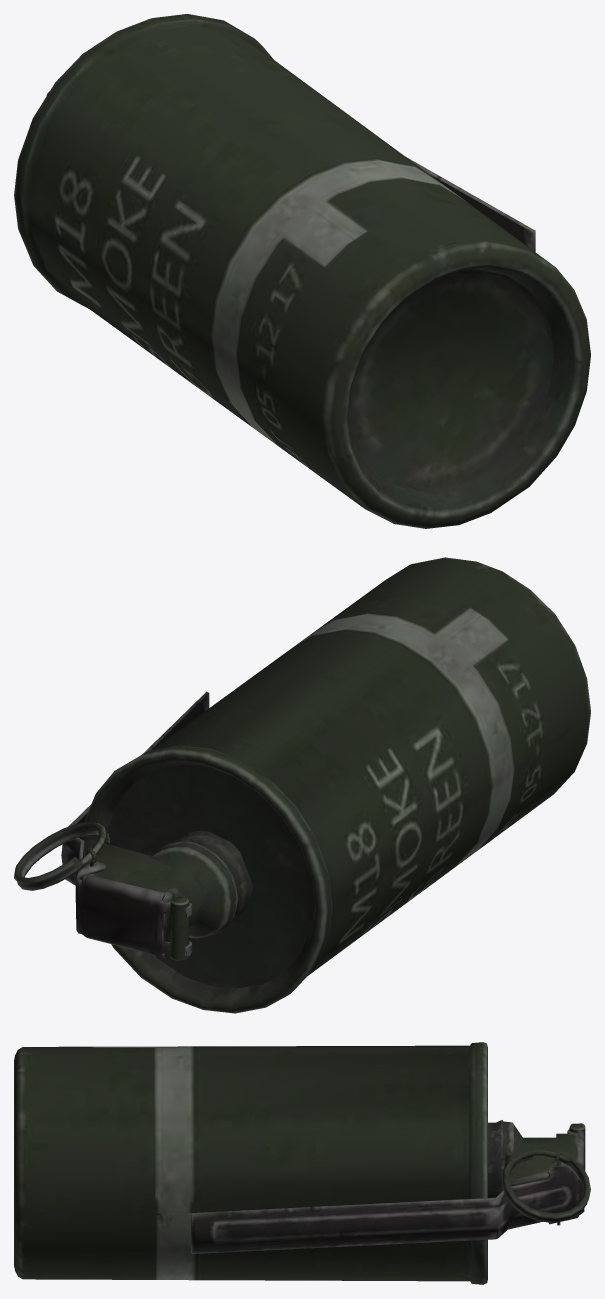
File: supplysignal.weapon.glb
The picture shows the model from 3 angles, top to bottom: view 1: azimuth 30°, elevation 25°; view 2: azimuth 150°, elevation 25°; view 3: azimuth 270°, elevation 25°; orthographic projection. The views are drawn at different scales.
Visible parts, largest first — view 1: smoke_grenade_LOD0; view 2: smoke_grenade_LOD0; view 3: smoke_grenade_LOD0.
Part boxes in pixels (x1=…): smoke_grenade_LOD0: x1=14, y1=14, x2=590, y2=528; smoke_grenade_LOD0: x1=14, y1=557, x2=590, y2=1013; smoke_grenade_LOD0: x1=14, y1=1042, x2=590, y2=1284.
Size of the model in its own units: 0.0826 by 0.0699 by 0.1655.
1 material, 1 textured.
